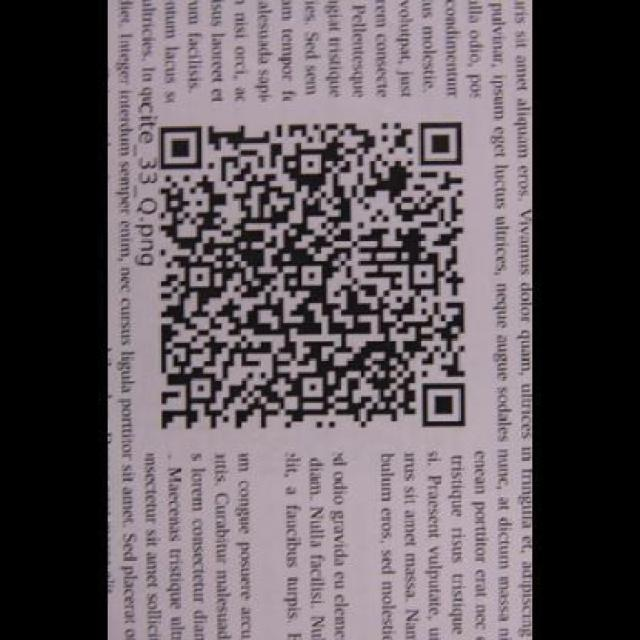QRCode: (152, 117, 476, 435)
